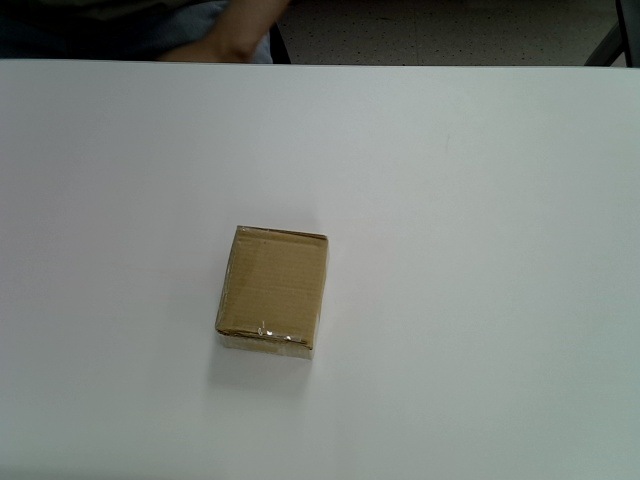normal: (214, 224, 331, 359)
